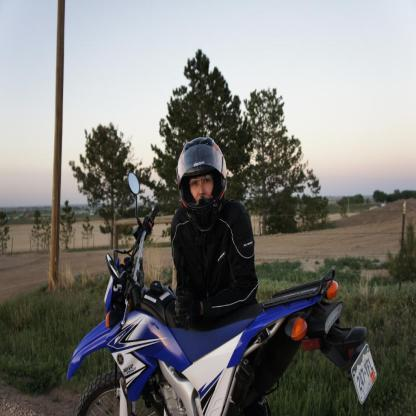Helmet: (180, 142, 230, 228)
